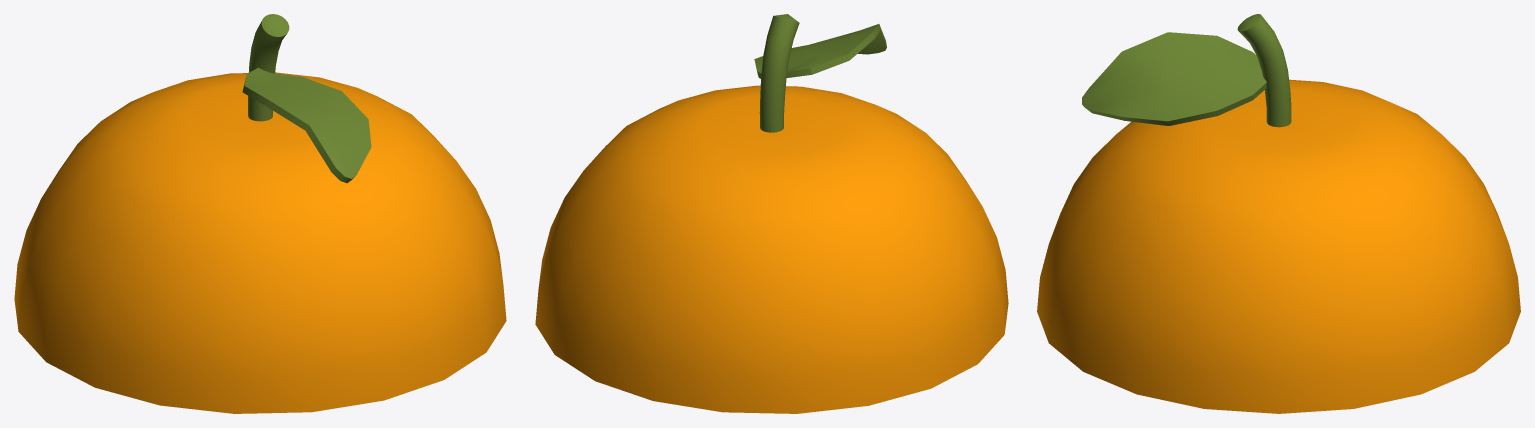
File: orange_top.fbx
3 renders of one model, left to right at view 1: azimuth 30°, elevation 25°; view 2: azimuth 150°, elevation 25°; view 3: azimuth 270°, elevation 25°, orthographic. The views are drawn at different scales.
Parts seen in each view (by area): view 1: orange_top; view 2: orange_top; view 3: orange_top.
Boxes of the visible parts, bbox=[...] form: orange_top: bbox=[14, 14, 506, 413]; orange_top: bbox=[535, 14, 1008, 413]; orange_top: bbox=[1037, 14, 1520, 413].
Size of the model in its own units: 4 by 2.69 by 4.
1 material, 1 textured.
